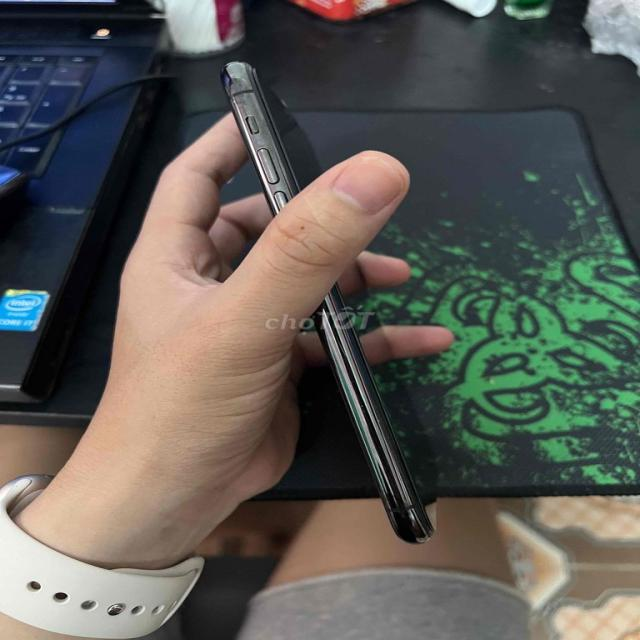gen_11: (312, 285, 433, 542), (222, 62, 318, 216)
scratch: (354, 395, 390, 434)
